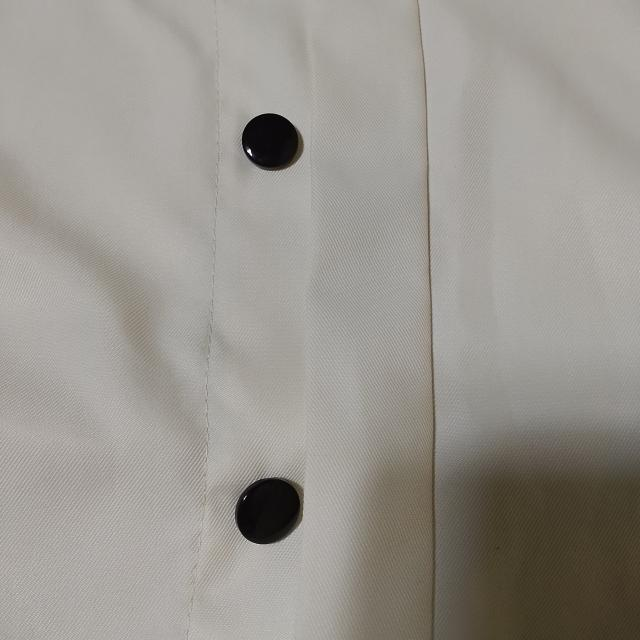education_male_uniform: (211, 2, 425, 326)
